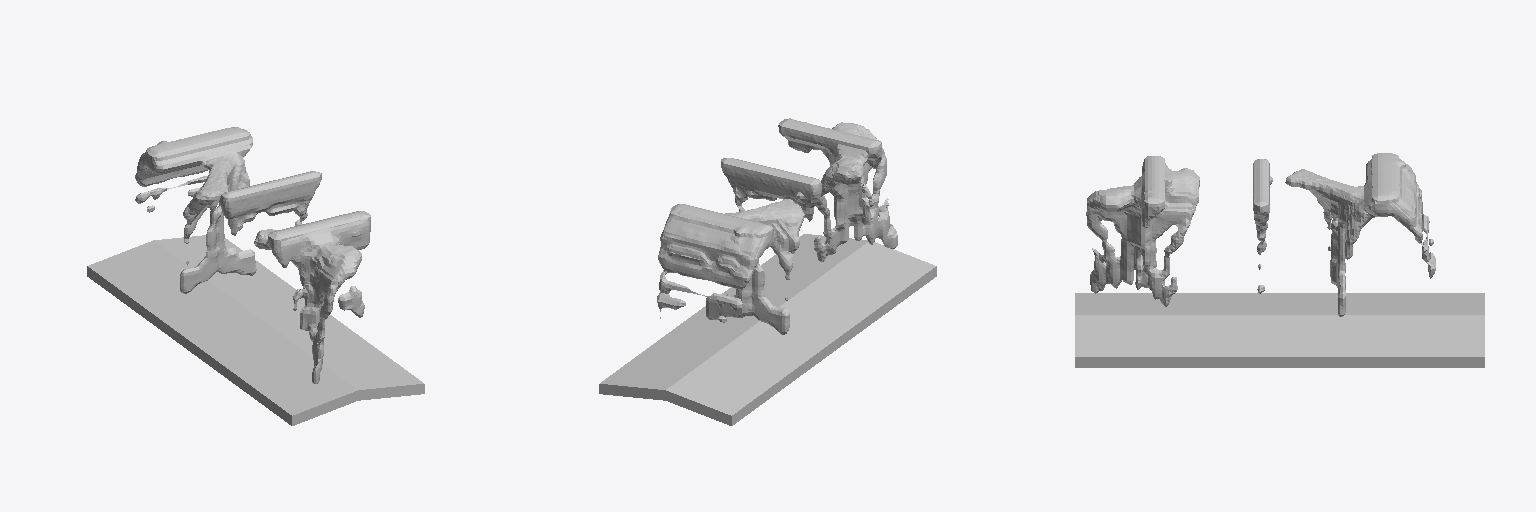
The model's file is Watersim_000016.obj.
3 renders of one model, left to right at view 1: azimuth 30°, elevation 25°; view 2: azimuth 150°, elevation 25°; view 3: azimuth 270°, elevation 25°, orthographic.
Visible parts, largest first — view 1: Straße_Cube.007, Domain_Cube.006; view 2: Straße_Cube.007, Domain_Cube.006; view 3: Straße_Cube.007, Domain_Cube.006.
Part boxes in pixels (x1,y1,x2,y2): Straße_Cube.007: (87, 235, 424, 425); Domain_Cube.006: (135, 127, 370, 383); Straße_Cube.007: (599, 234, 936, 425); Domain_Cube.006: (657, 118, 897, 334); Straße_Cube.007: (1075, 293, 1484, 367); Domain_Cube.006: (1086, 153, 1435, 316).
Bounding box in the file's own units: 2.26 × 2.59 × 6.06.